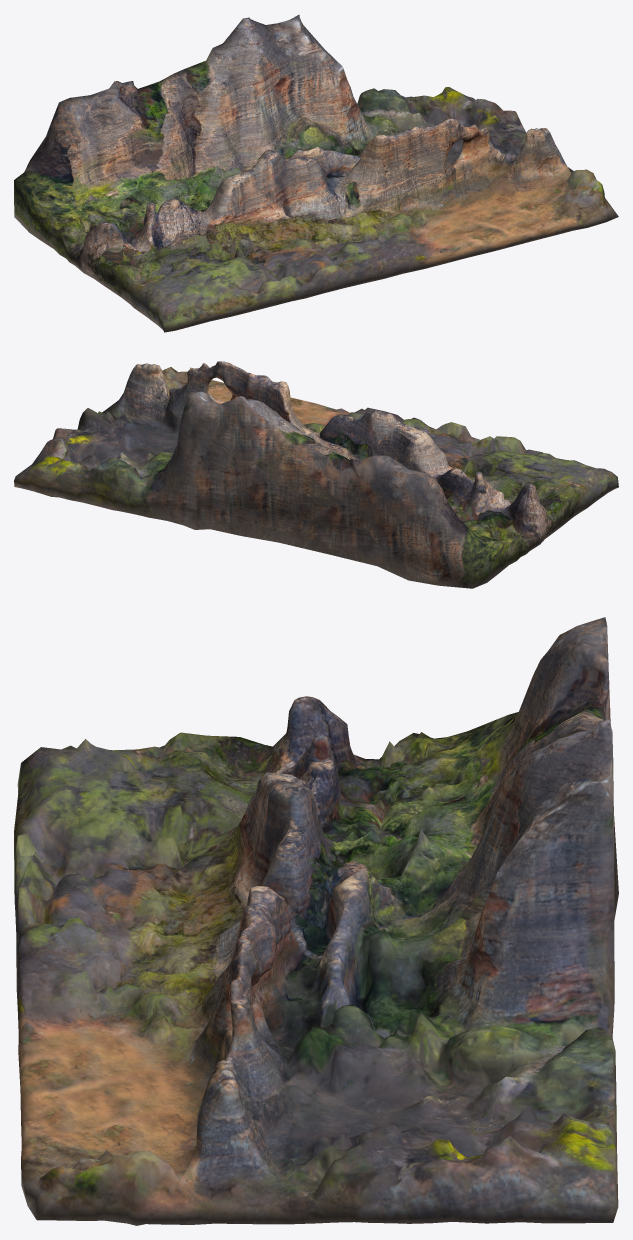
File: PedraFurada.gltf
3 renders of one model, top to bottom at view 1: azimuth 30°, elevation 25°; view 2: azimuth 150°, elevation 25°; view 3: azimuth 270°, elevation 25°, orthographic. The views are drawn at different scales.
Visible parts, largest first — view 1: SM_0202_Retopo_AR_Applied; view 2: SM_0202_Retopo_AR_Applied; view 3: SM_0202_Retopo_AR_Applied.
Part boxes in pixels (x1,y1,x2,y2): SM_0202_Retopo_AR_Applied: (14,15,618,332); SM_0202_Retopo_AR_Applied: (14,361,618,588); SM_0202_Retopo_AR_Applied: (14,617,618,1225).
Bounding box in the file's own units: 128 × 38.89 × 74.
1 material, 1 textured.
